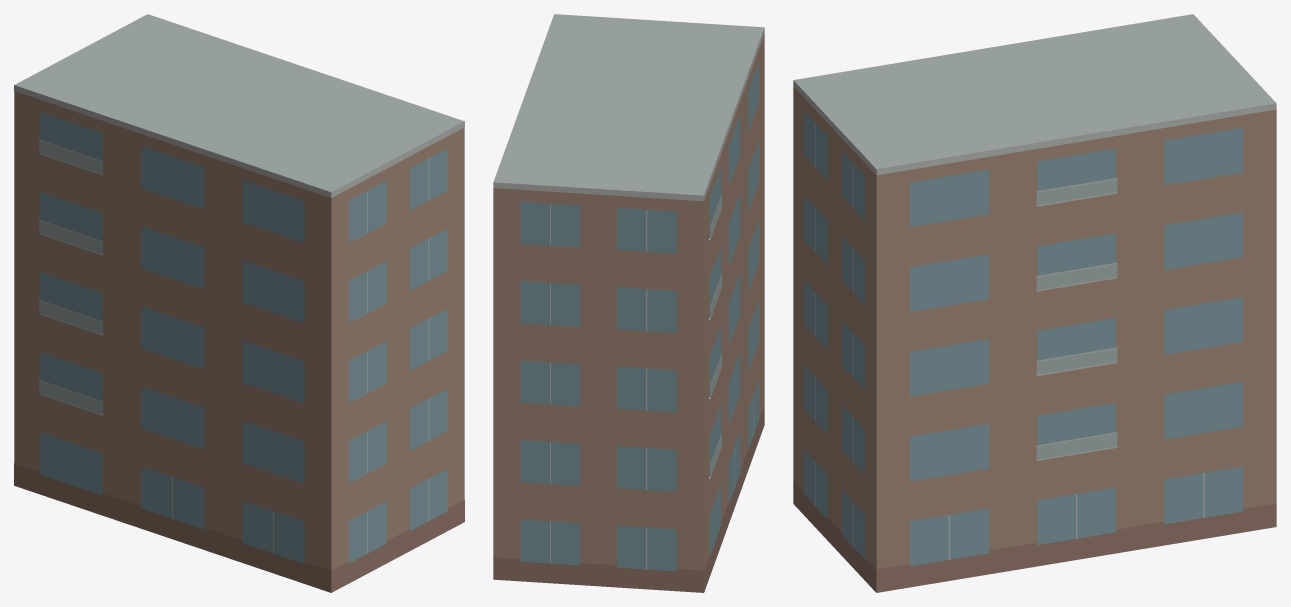
The model's file is survey-upis-32890858.glb.
The picture shows the model from 3 angles, left to right: view 1: azimuth 30°, elevation 25°; view 2: azimuth 150°, elevation 25°; view 3: azimuth 270°, elevation 25°; orthographic projection. The views are drawn at different scales.
Parts seen in each view (by area): view 1: survey-upis-32890858.tmp; view 2: survey-upis-32890858.tmp; view 3: survey-upis-32890858.tmp.
Part boxes in pixels (bbox=[...]): survey-upis-32890858.tmp: bbox=[14, 14, 464, 592]; survey-upis-32890858.tmp: bbox=[493, 14, 764, 592]; survey-upis-32890858.tmp: bbox=[793, 14, 1276, 592].
Size of the model in its own units: 13.13 by 16.7 by 17.28.
